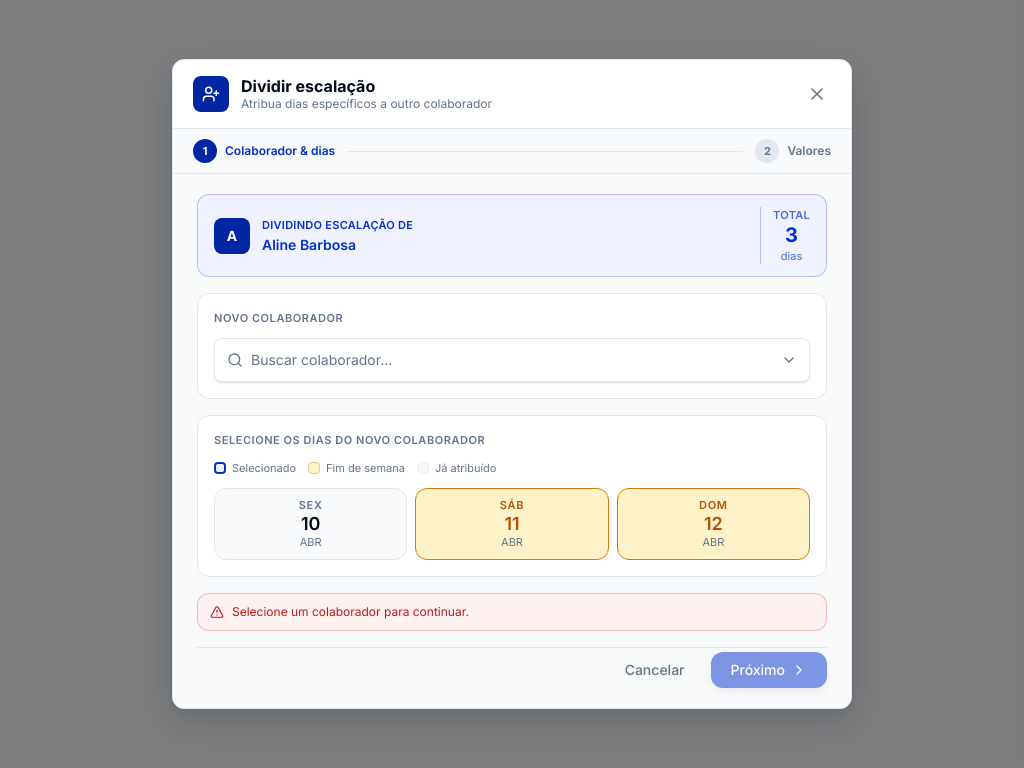
Test: Dividir escalação — passo 2 do novo colaborador › titular freela + novo casa: alimentação pela regra dele, cartão visível e de onde veio o valor
Click the button "Buscar colaborador…".
click(322, 360)  # box [214,338,810,382]
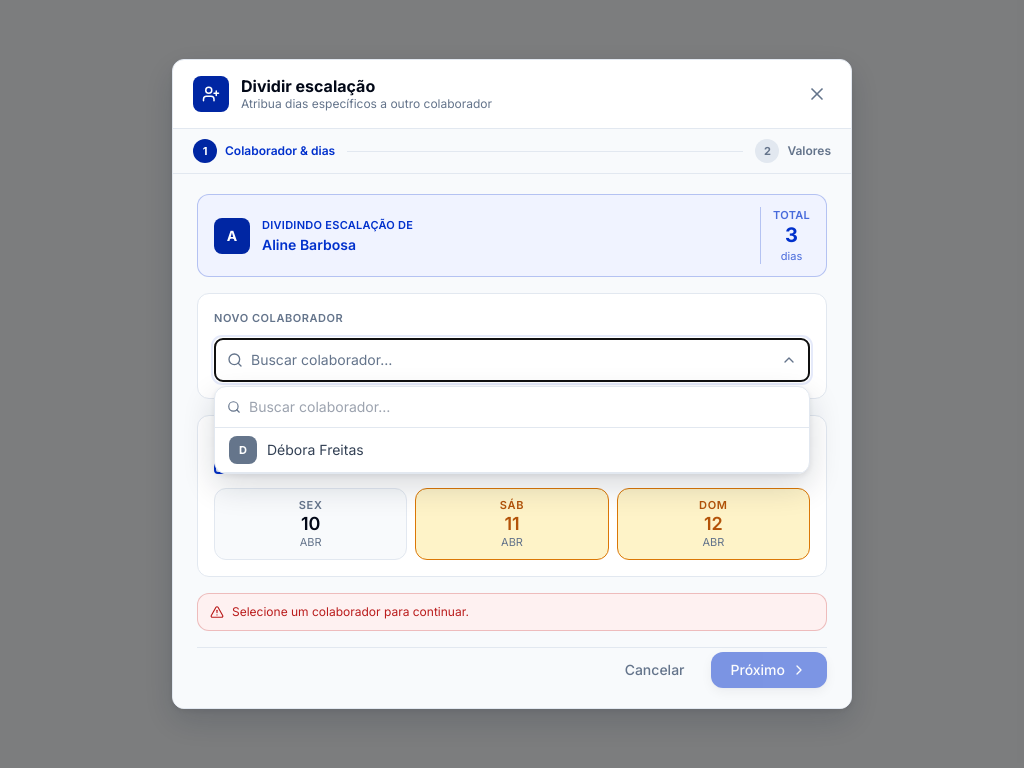
Press the mouse on the button "D Débora Freitas" at (315, 450), box [215,428,809,473]
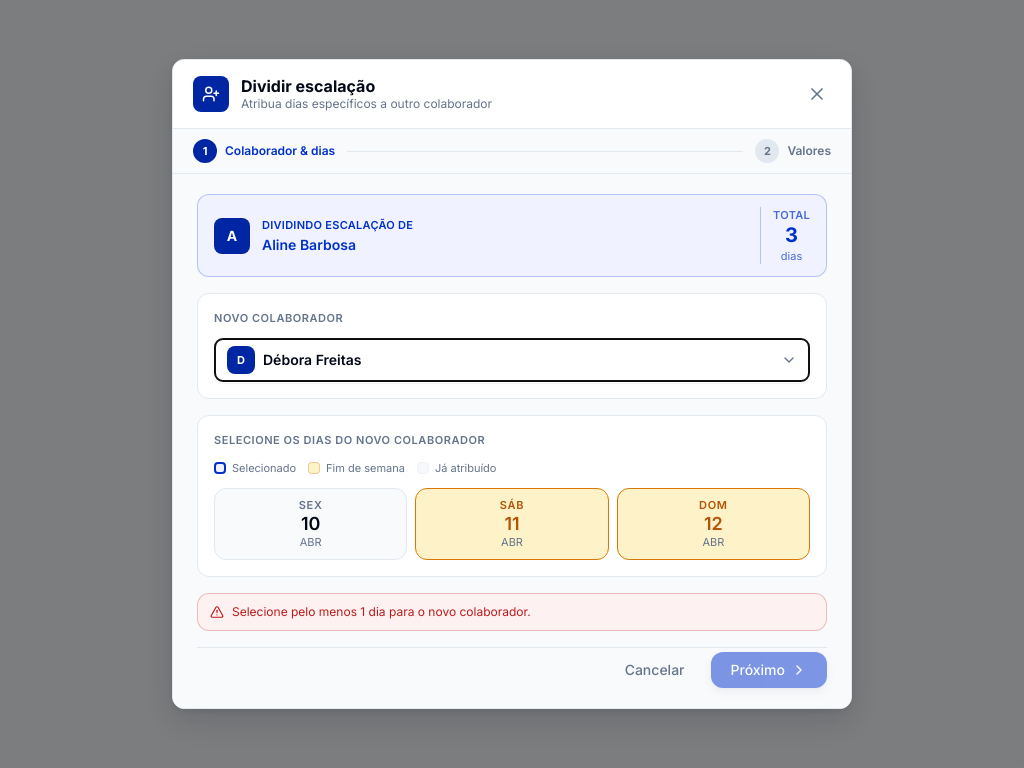
Click the button with aria-label "Sex 10/Abr".
click(311, 524)  # box [214,488,407,560]
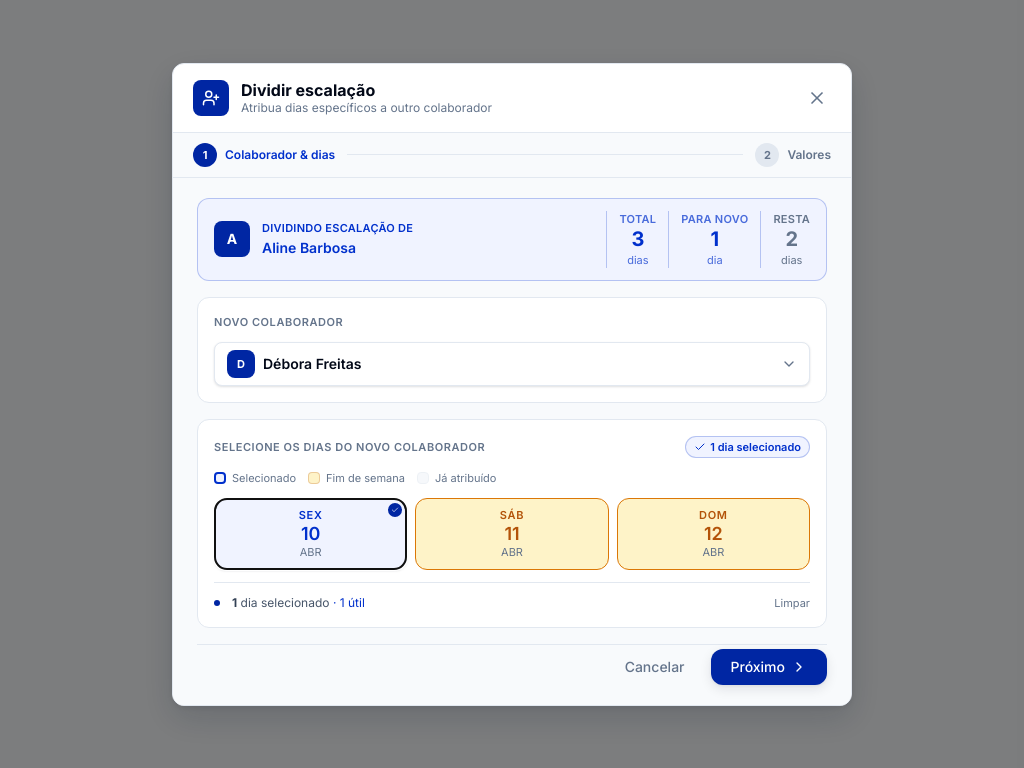
Click the button with aria-label "Sáb 11/Abr".
click(512, 534)  # box [415,498,609,570]
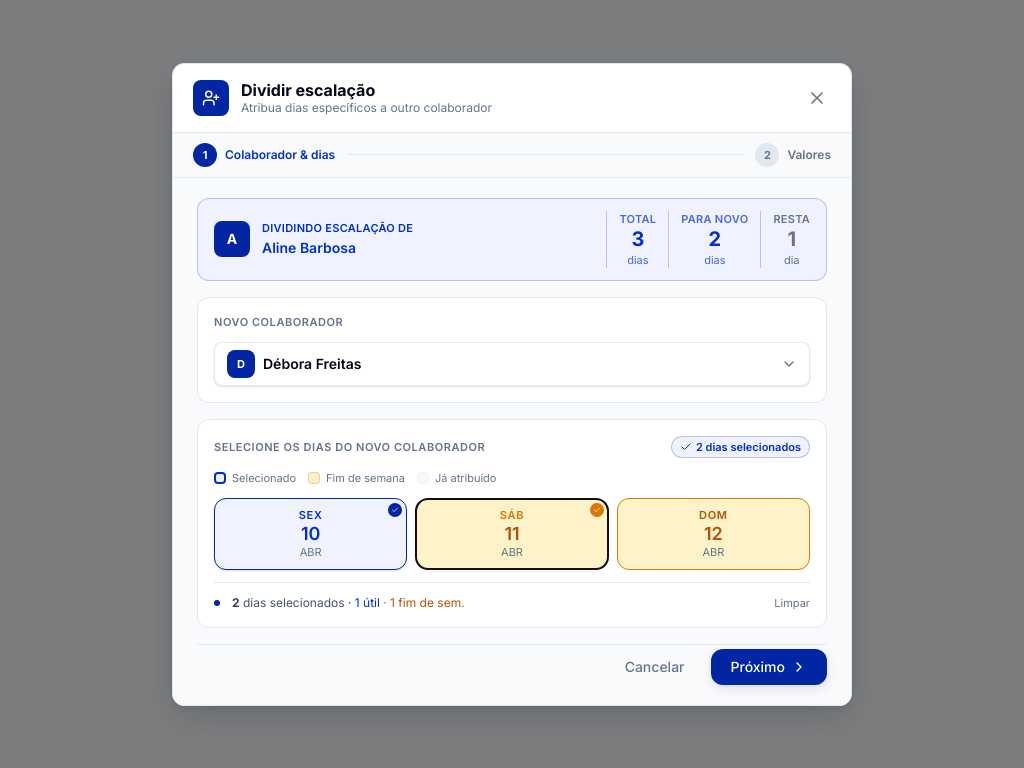
Click the button "Próximo".
click(769, 666)  # box [710,648,827,684]
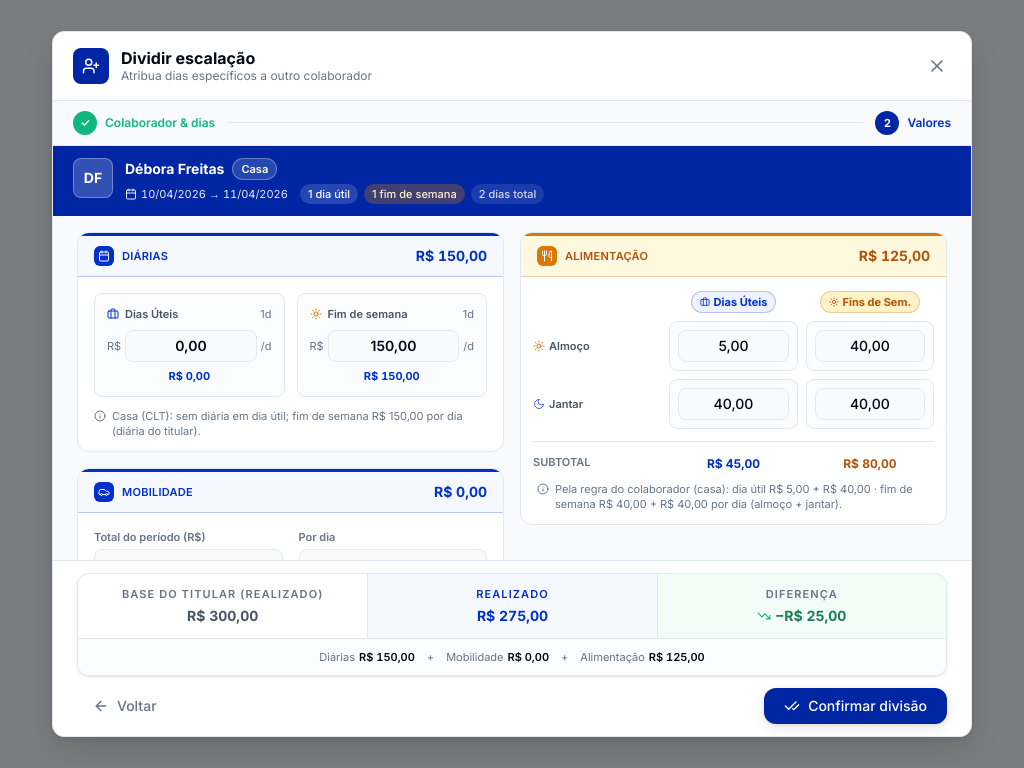
Now the element with test id "split-card-alimentacao" is shown, box [520,232,947,525]
Now the field named "Almoço em dias úteis" holds "5,00", box [678,330,789,362]
Now the field named "Jantar em dias úteis" holds "40,00", box [678,388,789,420]
